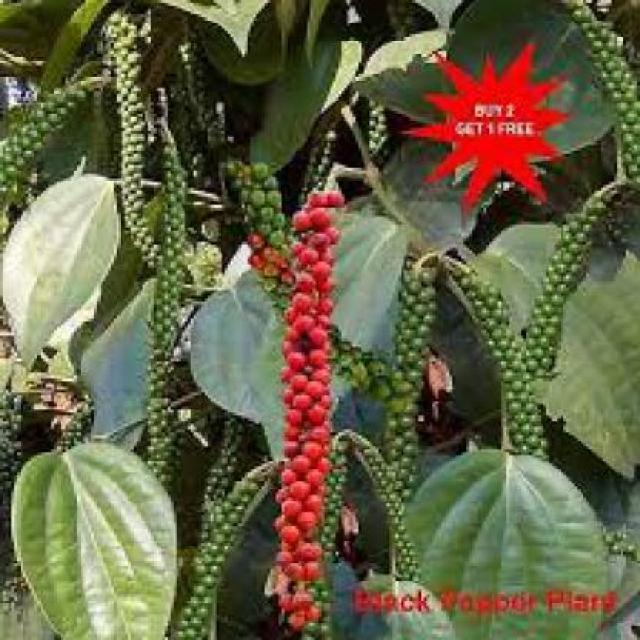RIPE: (278, 194, 331, 620), (239, 228, 268, 271)
UNRIPE: (168, 412, 254, 634), (336, 265, 439, 423), (455, 268, 540, 452), (523, 188, 603, 382), (560, 0, 638, 180), (148, 114, 185, 478), (331, 431, 422, 578), (105, 11, 154, 262), (0, 80, 91, 191), (168, 17, 219, 145), (225, 160, 279, 225), (0, 385, 14, 569), (603, 518, 637, 560), (308, 117, 328, 178), (362, 97, 382, 154), (385, 3, 412, 31)
